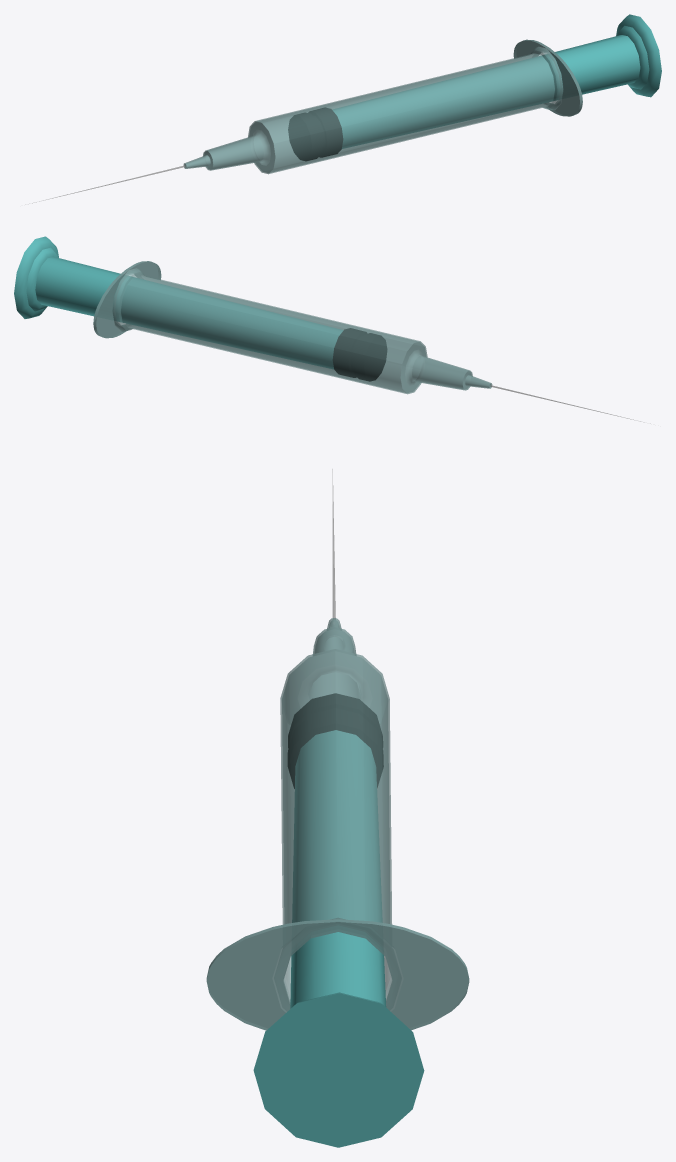
File: syringe-new_000245.obj
The picture shows the model from 3 angles, top to bottom: view 1: azimuth 30°, elevation 25°; view 2: azimuth 150°, elevation 25°; view 3: azimuth 270°, elevation 25°; orthographic projection. The views are drawn at different scales.
Parts seen in each view (by area): view 1: sy_Shape_1; view 2: sy_Shape_1; view 3: sy_Shape_1.
Boxes of the visible parts, x1,y1,x2,y2 form: sy_Shape_1: (32, 14, 661, 203); sy_Shape_1: (14, 236, 640, 421); sy_Shape_1: (206, 469, 469, 1147).
Bounding box in the file's own units: 13.68 × 1.62 × 2.49.
